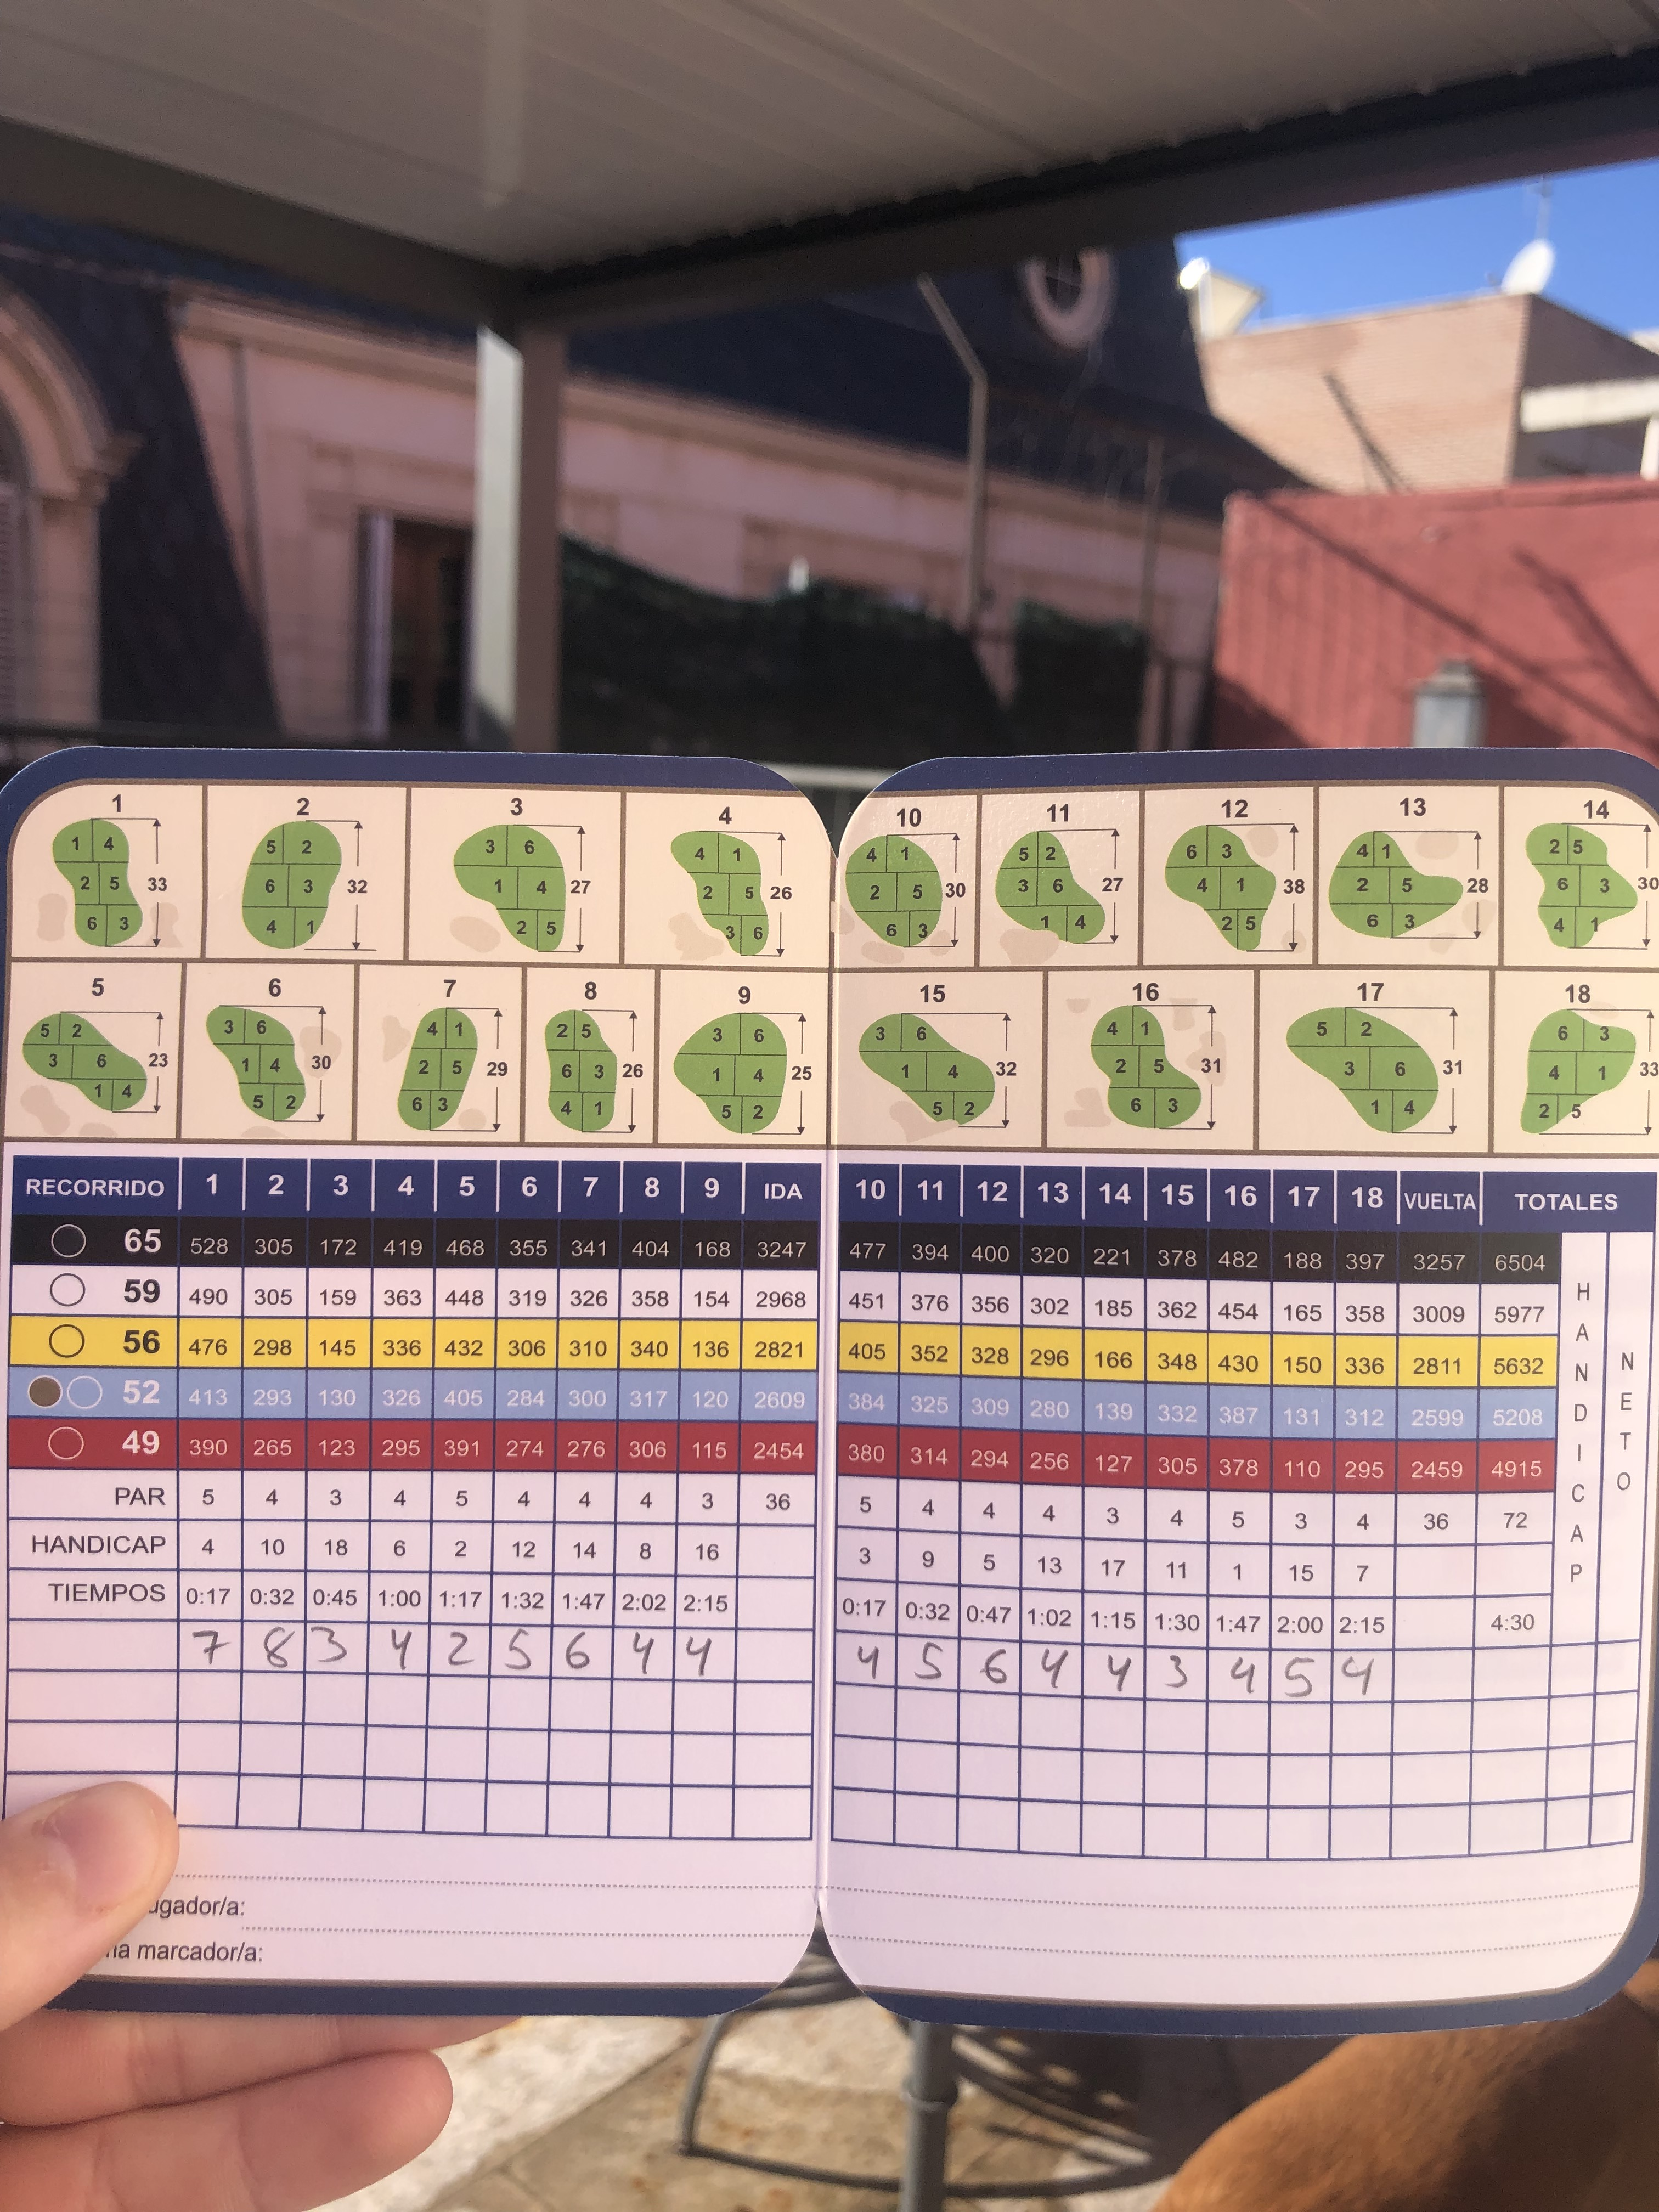par: (105, 1479, 1546, 1538)
score: (195, 1629, 1380, 1705)
